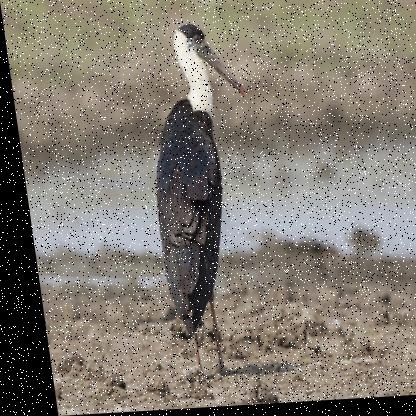Burung: (126, 22, 277, 389)
